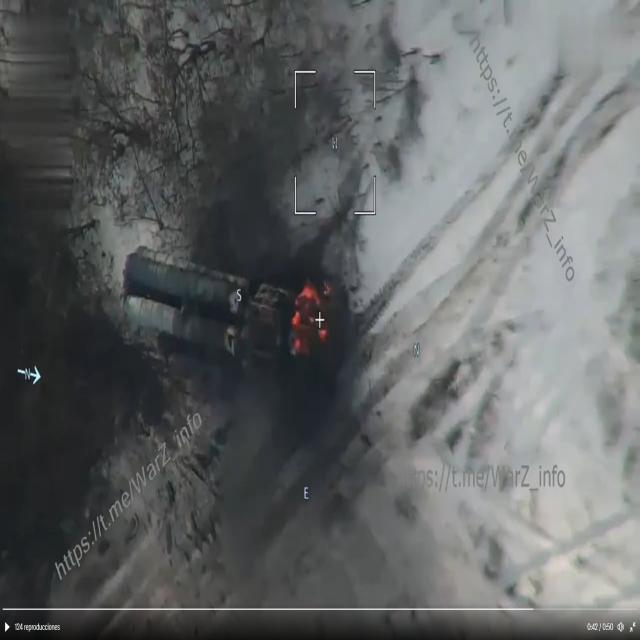destroyed: (122, 252, 332, 394)
